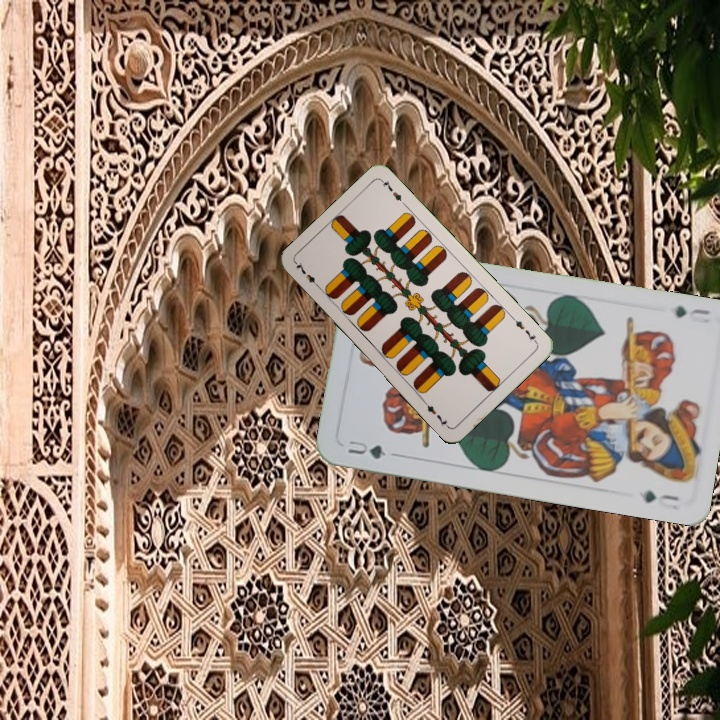E7: (508, 313, 540, 346), (292, 258, 323, 292)
GU: (344, 436, 389, 462), (670, 301, 713, 326)
